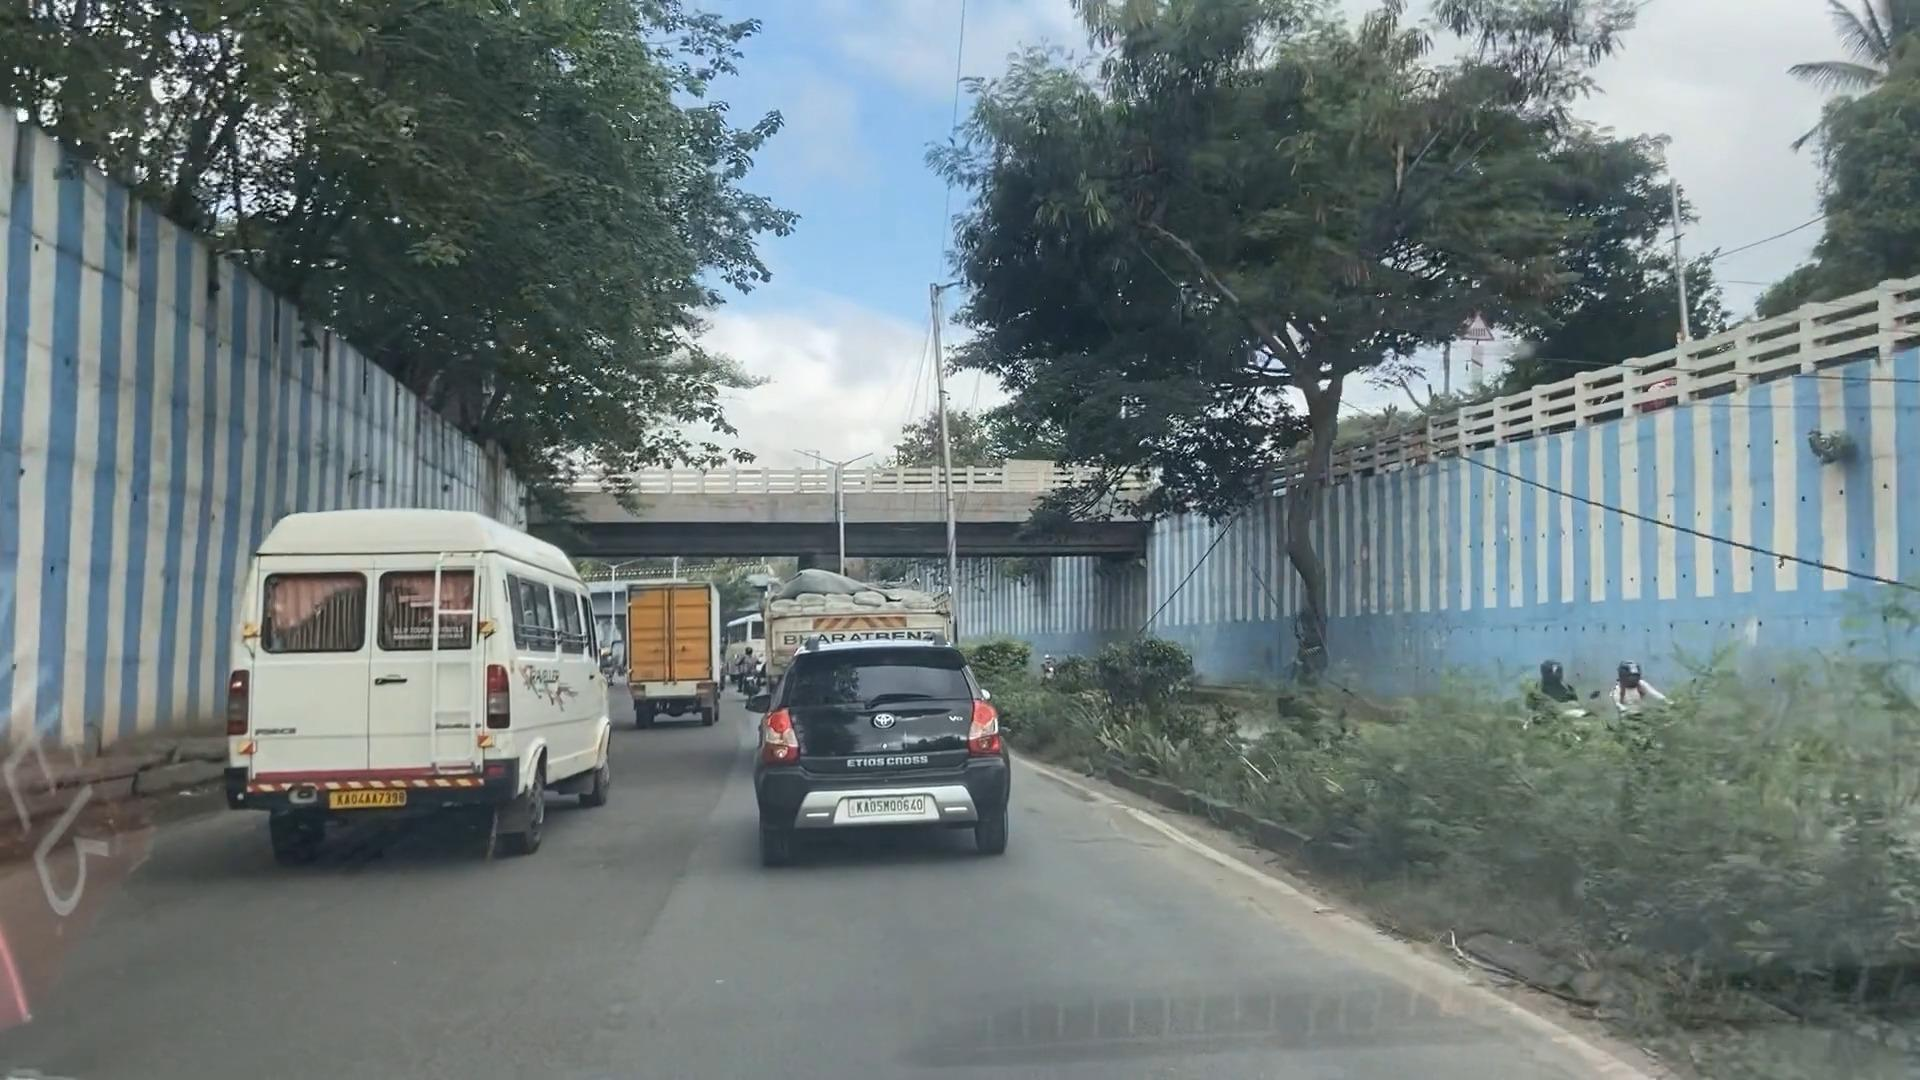HMV: (232, 510, 597, 855), (629, 585, 720, 721)
LMV: (757, 636, 1009, 857)
